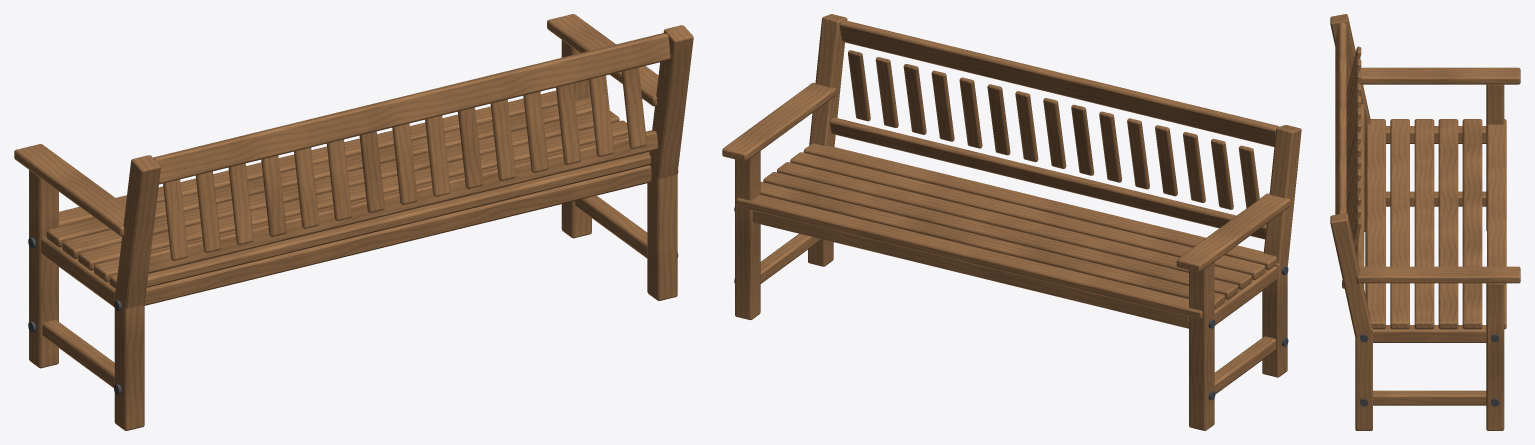
Rendered from bench.glb.
3 renders of one model, left to right at view 1: azimuth 30°, elevation 25°; view 2: azimuth 150°, elevation 25°; view 3: azimuth 270°, elevation 25°, orthographic. The views are drawn at different scales.
Parts seen in each view (by area): view 1: bench; view 2: bench; view 3: bench.
Boxes of the visible parts, x1=… form: bench: x1=14, y1=14, x2=693, y2=430; bench: x1=722, y1=14, x2=1301, y2=430; bench: x1=1330, y1=14, x2=1520, y2=430.
Bounding box in the file's own units: 8.32 × 3.92 × 3.19.
2 materials, 1 textured.
